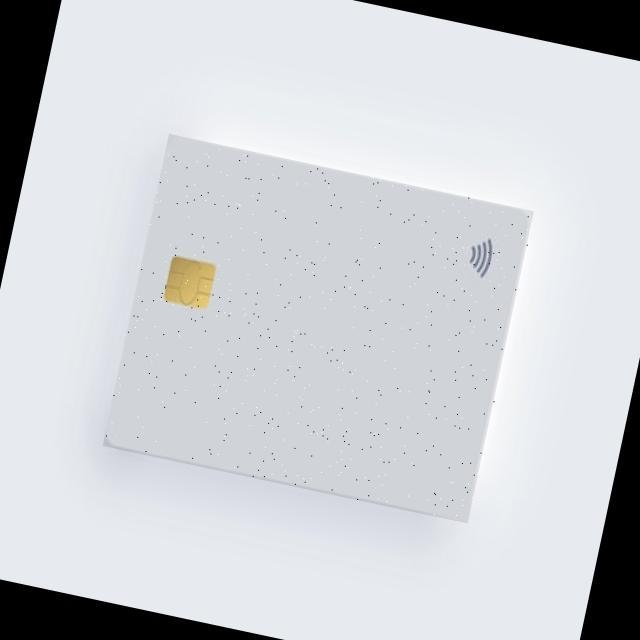payment_card: (102, 131, 535, 524)
